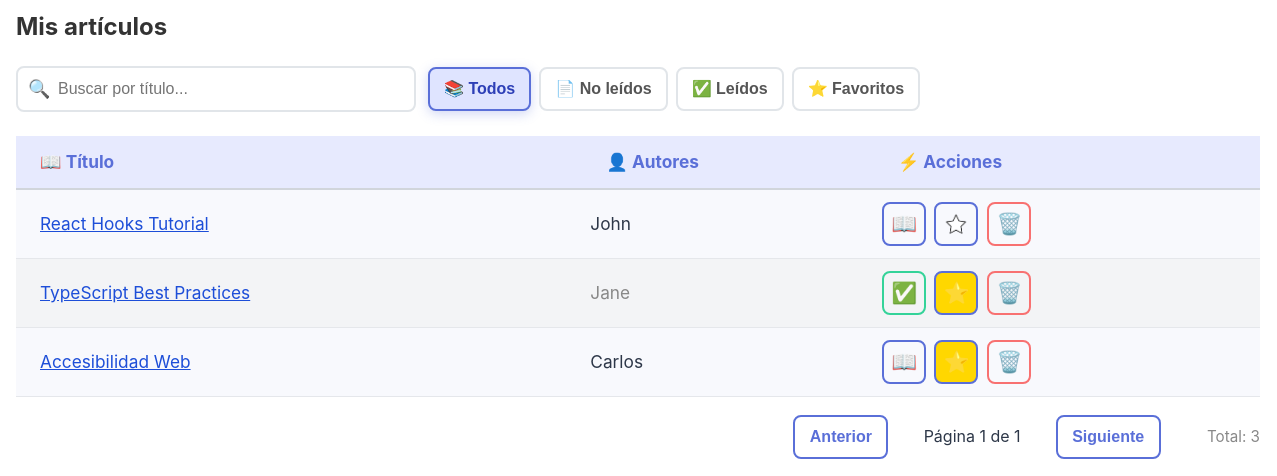
Test case: ArticleTable - UI de filtros y acciones › filtra por favoritos al pulsar el botón
Expected: the link "React Hooks Tutorial" is shown, [40,213,209,234]
Note: Activar filtro de favoritos
What coordinates should you click on to do the following:
click the button "⭐ Favoritos"
I would click on:
 (856, 89)
Its box is [792,67,920,111].
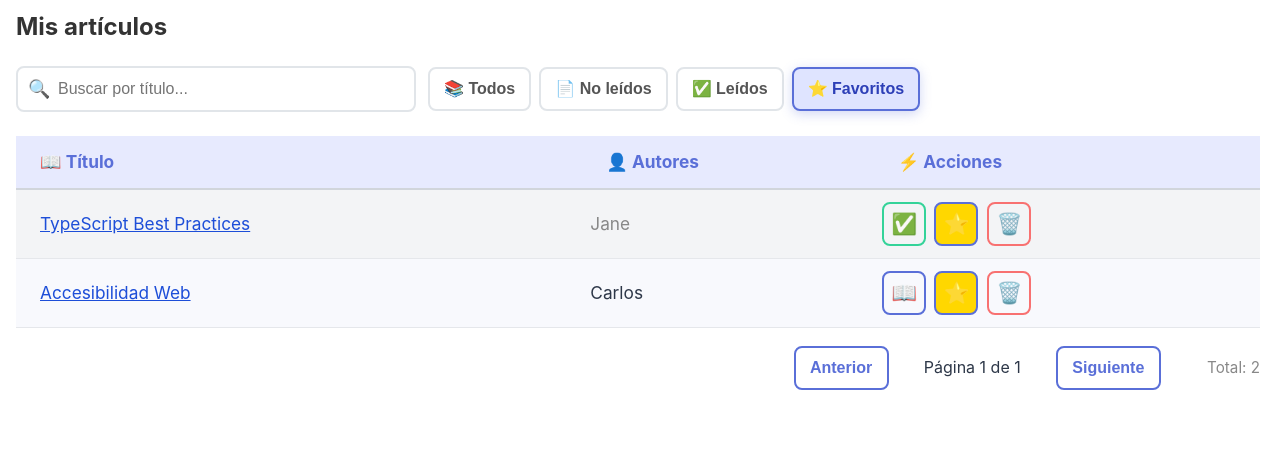
Expected: the link "TypeScript Best Practices" is shown, [40,213,250,234]
Now the link "React Hooks Tutorial" is gone
